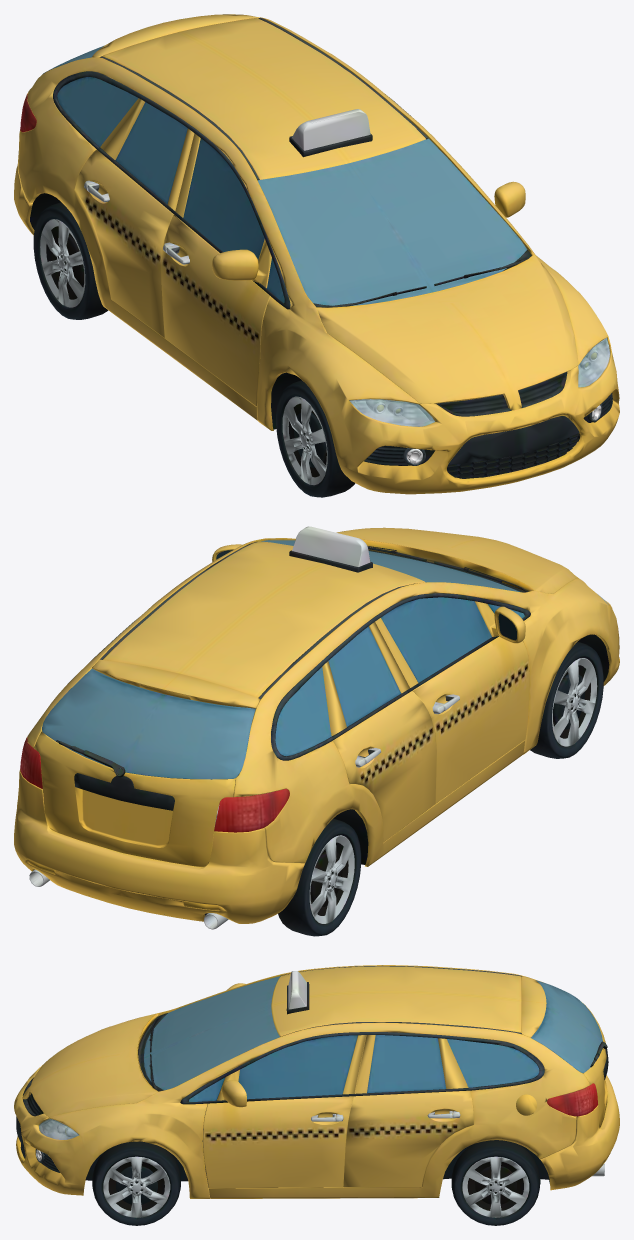
File: taxi.glb
3 renders of one model, top to bottom at view 1: azimuth 30°, elevation 25°; view 2: azimuth 150°, elevation 25°; view 3: azimuth 270°, elevation 25°, orthographic. The views are drawn at different scales.
Parts seen in each view (by area): view 1: taxi.2, taxi_glass.3; view 2: taxi.2; view 3: taxi.2, taxi_glass.3.
Boxes of the visible parts, x1,y1,x2,y2 form: taxi.2: (14,14,619,497); taxi_glass.3: (350,338,610,426); taxi.2: (14,526,619,936); taxi.2: (14,965,619,1225); taxi_glass.3: (38,1118,78,1139).
Bounding box in the file's own units: 1.21 × 1 × 2.77.
2 materials, 2 textured.
